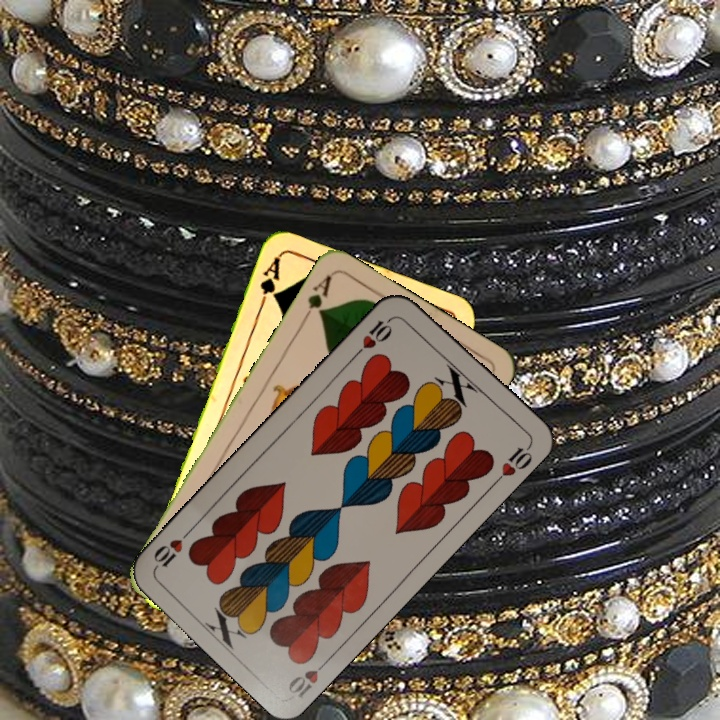GA: (297, 271, 334, 325), (256, 253, 283, 311)
H10: (284, 653, 334, 701), (351, 313, 397, 359)
